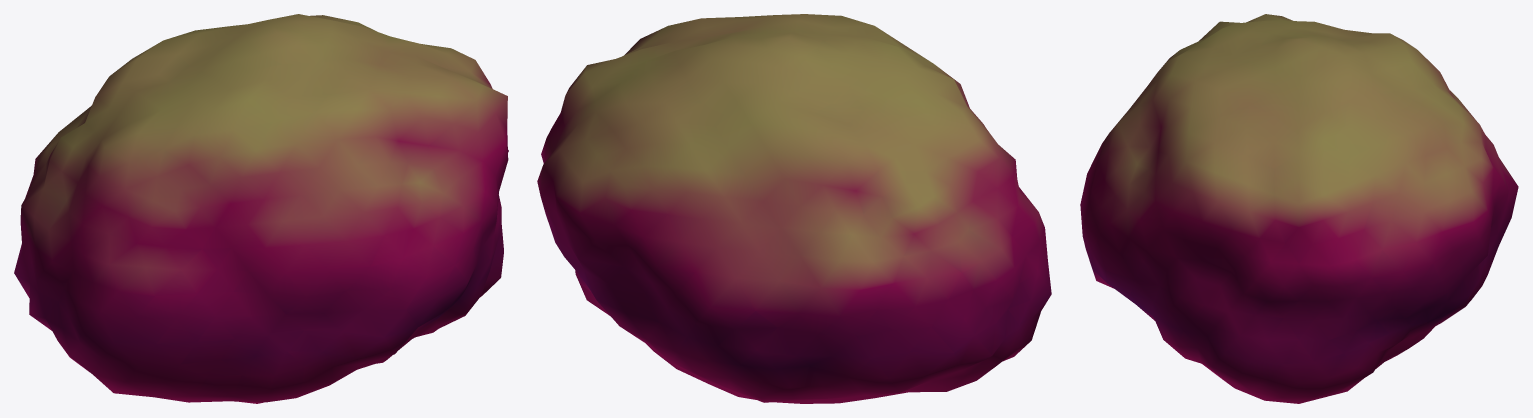
The model's file is veg_rock_a.glb.
3 renders of one model, left to right at view 1: azimuth 30°, elevation 25°; view 2: azimuth 150°, elevation 25°; view 3: azimuth 270°, elevation 25°, orthographic. The views are drawn at different scales.
Parts seen in each view (by area): view 1: veg_rock_a_LOD0; view 2: veg_rock_a_LOD0; view 3: veg_rock_a_LOD0.
Part boxes in pixels (x1=…): veg_rock_a_LOD0: x1=14, y1=14, x2=508, y2=403; veg_rock_a_LOD0: x1=537, y1=14, x2=1051, y2=403; veg_rock_a_LOD0: x1=1080, y1=14, x2=1518, y2=403.
Size of what is drawn, in the model's own units: 1.28 by 0.9077 by 1.12.
